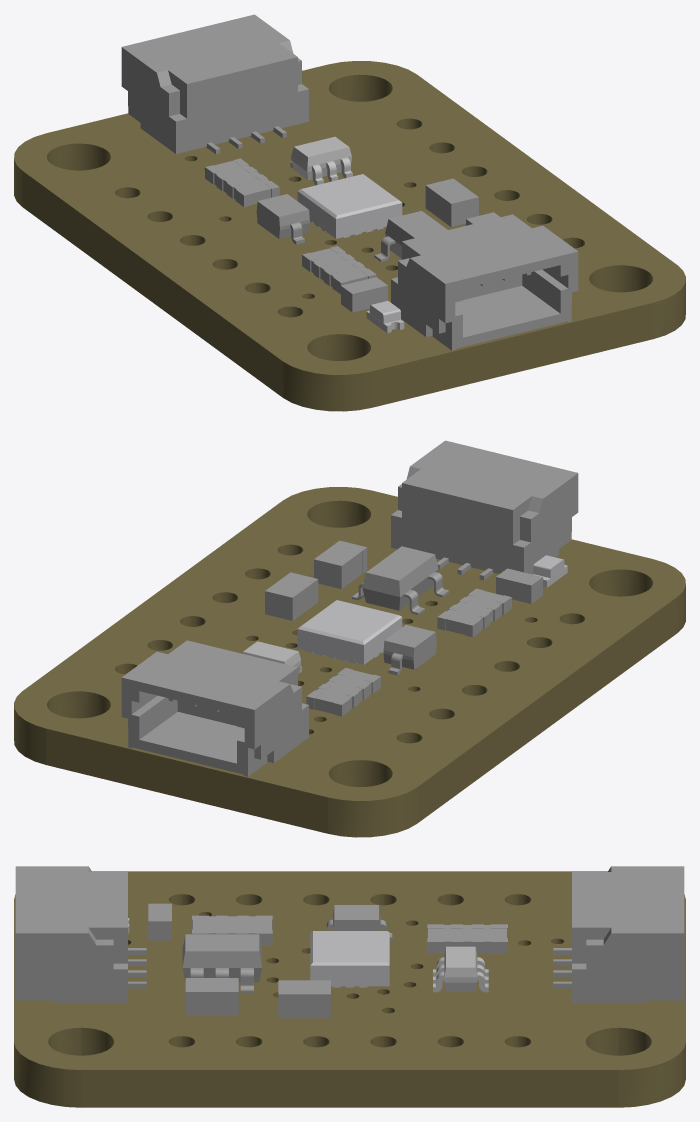
File: ada-2809.glb
3 renders of one model, top to bottom at view 1: azimuth 30°, elevation 25°; view 2: azimuth 150°, elevation 25°; view 3: azimuth 270°, elevation 25°, orthographic. The views are drawn at different scales.
Visible parts, largest first — view 1: 0.16666666666666666_0.16666666666666666_0.08333333333333333_, 0.3333333333333333_0.3333333333333333_0.3333333333333333_0, 0.5833333333333334_0.5833333333333334_0.5833333333333334_0.8, 0.5_0.5_0.5_0.85; view 2: 0.16666666666666666_0.16666666666666666_0.08333333333333333_, 0.3333333333333333_0.3333333333333333_0.3333333333333333_0, 0.5833333333333334_0.5833333333333334_0.5833333333333334_0.8, 0.5_0.5_0.5_0.85; view 3: 0.16666666666666666_0.16666666666666666_0.08333333333333333_, 0.3333333333333333_0.3333333333333333_0.3333333333333333_0, 0.5833333333333334_0.5833333333333334_0.5833333333333334_0.8, 0.5_0.5_0.5_0.85.
Boxes of the visible parts, x1,y1,x2,y2 form: 0.16666666666666666_0.16666666666666666_0.08333333333333333_: (14, 61, 685, 411); 0.3333333333333333_0.3333333333333333_0.3333333333333333_0: (121, 14, 578, 350); 0.5833333333333334_0.5833333333333334_0.5833333333333334_0.8: (297, 174, 404, 332); 0.5_0.5_0.5_0.85: (290, 136, 352, 185); 0.16666666666666666_0.16666666666666666_0.08333333333333333_: (14, 487, 685, 837); 0.3333333333333333_0.3333333333333333_0.3333333333333333_0: (121, 440, 578, 776); 0.5833333333333334_0.5833333333333334_0.5833333333333334_0.8: (297, 555, 567, 664); 0.5_0.5_0.5_0.85: (242, 641, 301, 674); 0.16666666666666666_0.16666666666666666_0.08333333333333333_: (14, 871, 685, 1107); 0.3333333333333333_0.3333333333333333_0.3333333333333333_0: (15, 866, 684, 1018); 0.5833333333333334_0.5833333333333334_0.5833333333333334_0.8: (128, 918, 389, 987); 0.5_0.5_0.5_0.85: (433, 946, 488, 992).
Size of the model in its own units: 1.78 by 0.4529 by 2.54.
